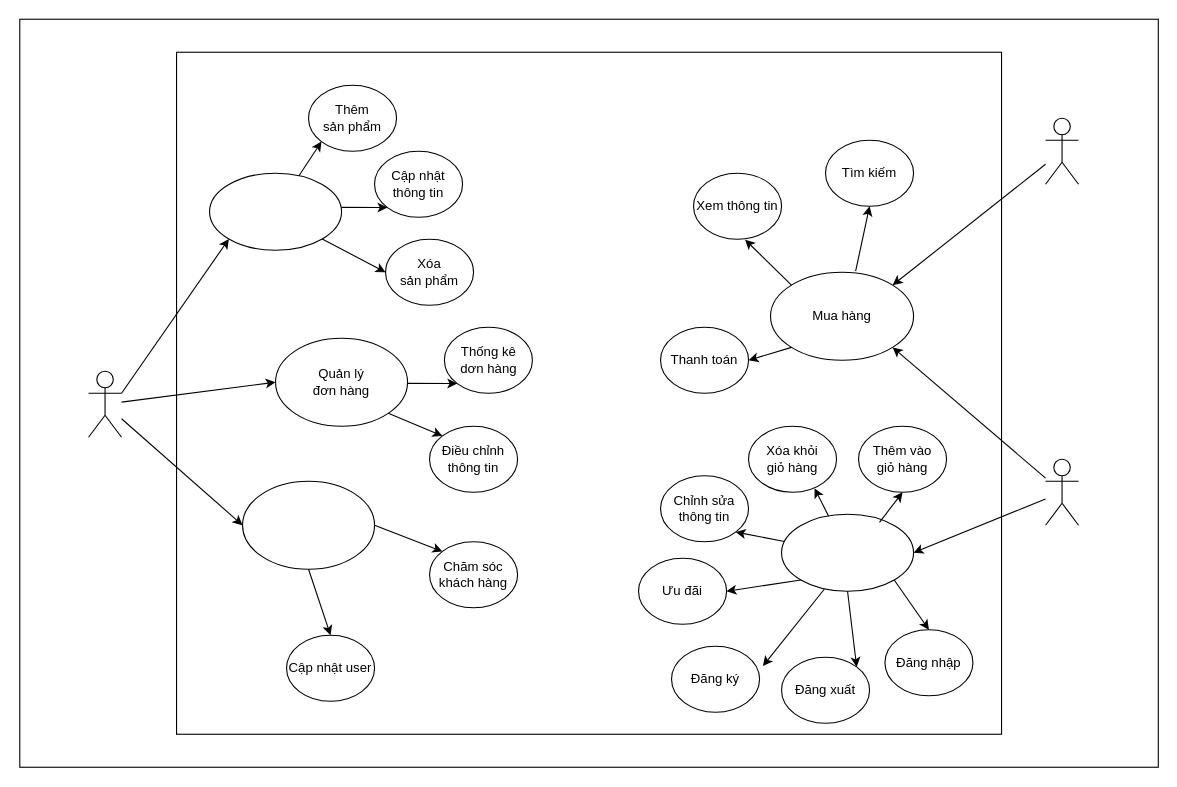
Image size: 1177x787. Some labels were removed from this diagram. The shapes that lost their labels are listed below. From the top down, each one's centre as x and y in pixels, then its label:
(x=1061, y=150): Guest
(x=275, y=211): Quản lý kho hàng
(x=104, y=403): Admin
(x=1061, y=491): User
(x=308, y=524): Quản lý User
(x=847, y=552): Tài khoản
